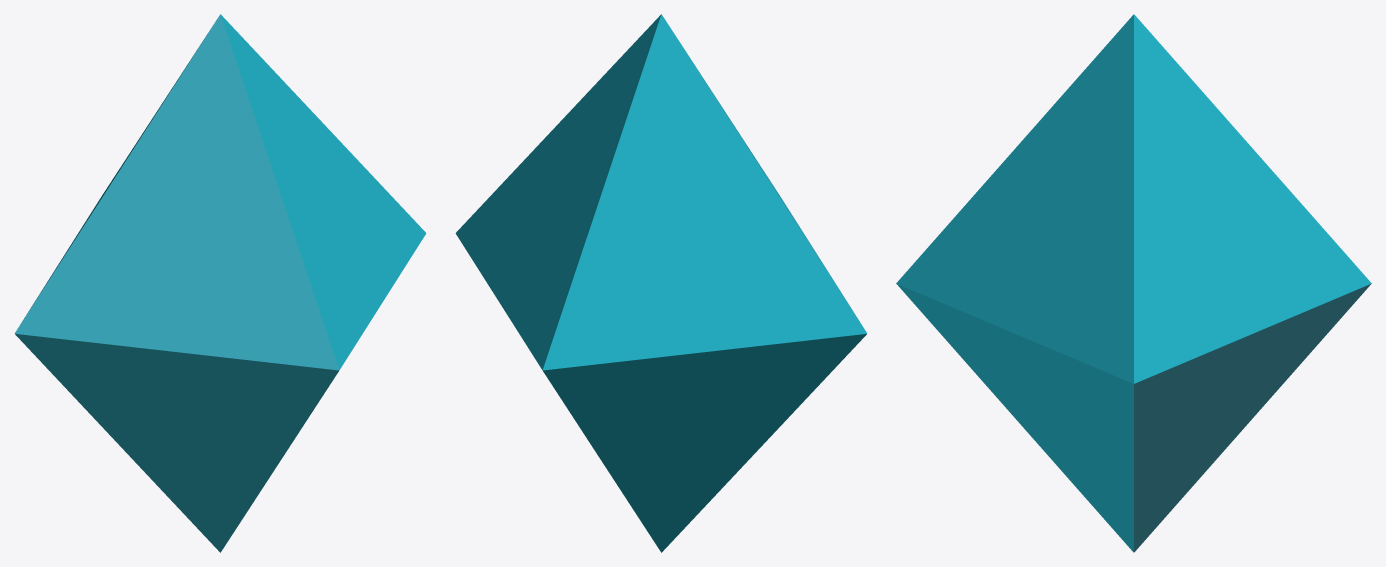
File: gem.glb
3 renders of one model, left to right at view 1: azimuth 30°, elevation 25°; view 2: azimuth 150°, elevation 25°; view 3: azimuth 270°, elevation 25°, orthographic.
Bounding box in the file's own units: 1.6 × 2 × 1.6.
